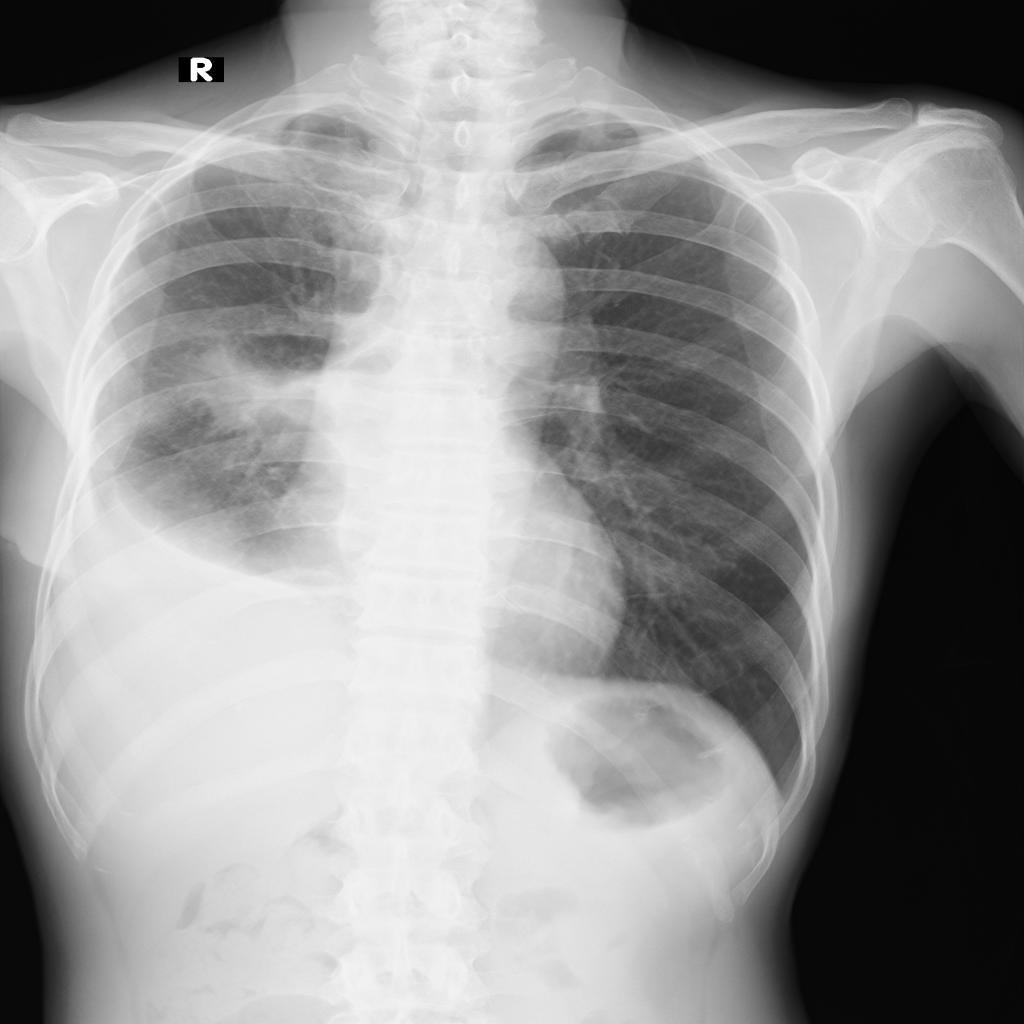Nodule: (137, 324, 337, 464)
